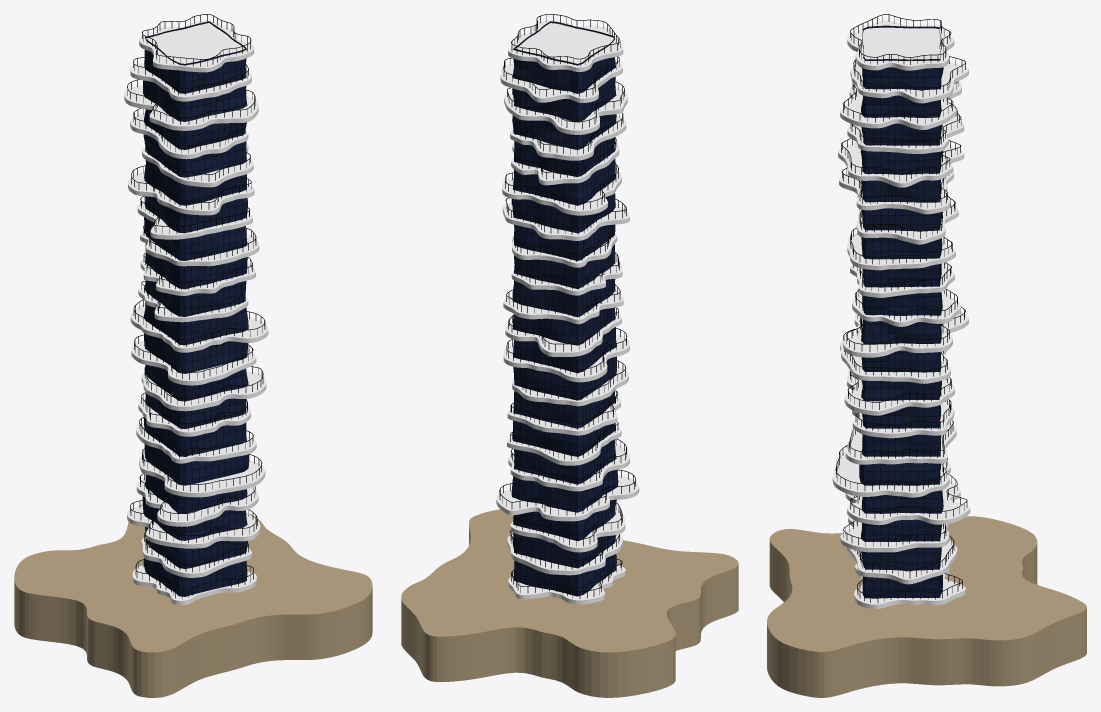
3 renders of one model, left to right at view 1: azimuth 30°, elevation 25°; view 2: azimuth 150°, elevation 25°; view 3: azimuth 270°, elevation 25°, orthographic.
Parts seen in each view (by area): view 1: Zeta_0, Epsilon_0, Gamma_0, Delta_0, Beta_20; view 2: Zeta_0, Epsilon_0, Gamma_0, Delta_0, Beta_20; view 3: Zeta_0, Gamma_0, Epsilon_0, Delta_0, Beta_20.
Boxes of the visible parts, x1,y1,x2,y2 form: Zeta_0: [14, 504, 372, 697]; Epsilon_0: [143, 21, 248, 596]; Gamma_0: [124, 20, 268, 605]; Delta_0: [142, 21, 249, 596]; Beta_20: [127, 14, 265, 599]; Zeta_0: [401, 509, 738, 697]; Epsilon_0: [512, 22, 617, 596]; Gamma_0: [496, 20, 639, 604]; Delta_0: [511, 21, 618, 596]; Beta_20: [499, 15, 635, 598]; Zeta_0: [767, 516, 1086, 697]; Gamma_0: [832, 20, 970, 608]; Epsilon_0: [859, 26, 943, 598]; Delta_0: [859, 25, 943, 598]; Beta_20: [836, 15, 967, 602].
Bounding box in the file's own units: 10.99 × 22.48 × 10.95.
